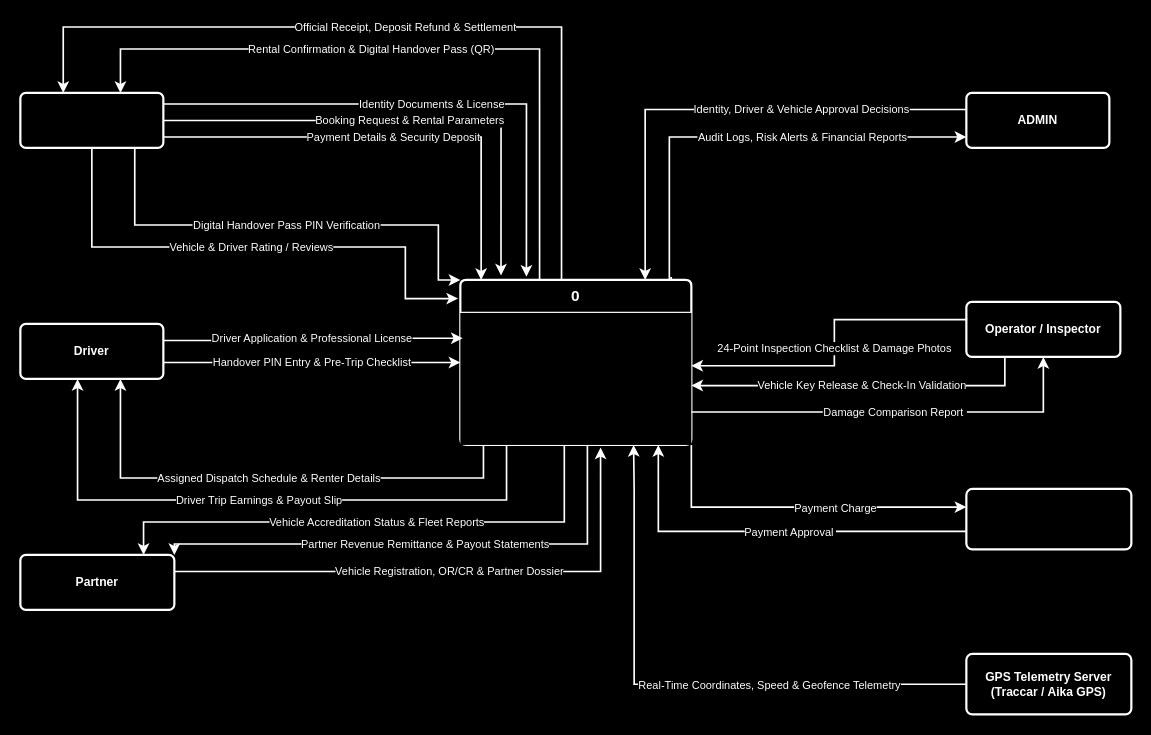
Image size: 1151x735. Some labels were removed from this diagram. The shapes that lost their labels are listed below. From the top down, each one's centre as x and y in pixels, then its label:
At point 91,119: "Renter".
At point 575,378: "MOBILIS CAR RENTAL MANAGEMENT SYSTEM".
At point 1048,518: "Payment Window".
